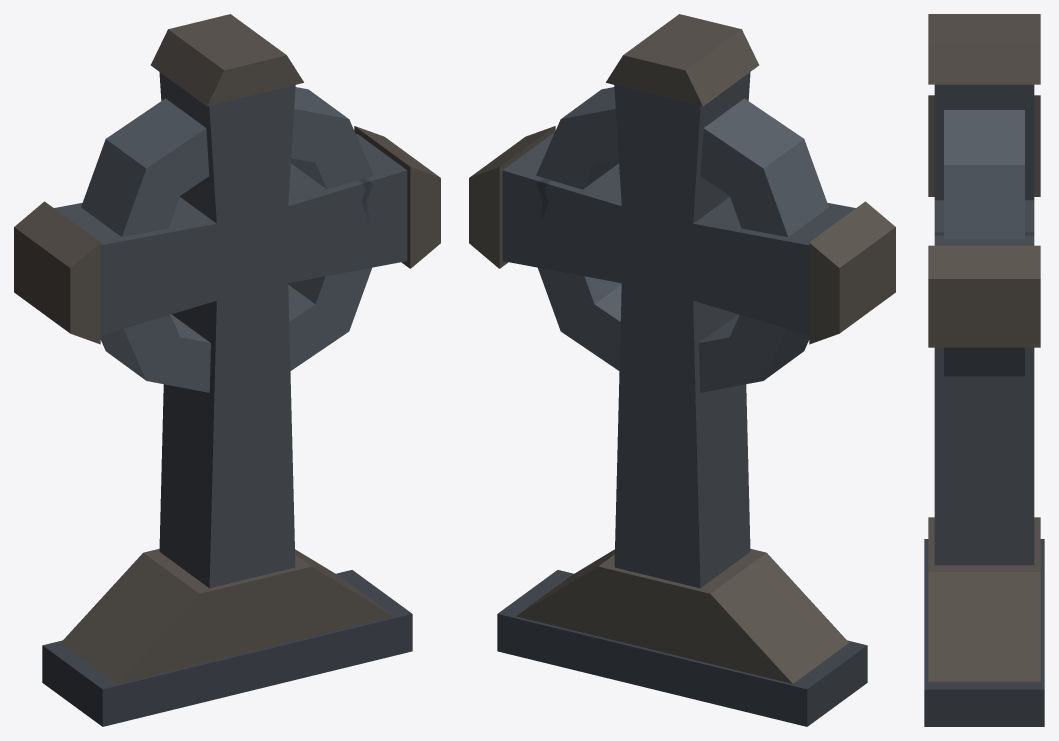
The model's file is Tombstone 03.fbx.
The picture shows the model from 3 angles, left to right: view 1: azimuth 30°, elevation 25°; view 2: azimuth 150°, elevation 25°; view 3: azimuth 270°, elevation 25°; orthographic projection.
Parts seen in each view (by area): view 1: Tombstone_03; view 2: Tombstone_03; view 3: Tombstone_03.
Boxes of the visible parts, <box> form: Tombstone_03: <box>14,14,440,726</box>; Tombstone_03: <box>469,14,895,726</box>; Tombstone_03: <box>924,14,1044,726</box>.
Bounding box in the file's own units: 68.36 × 110 × 19.25.
